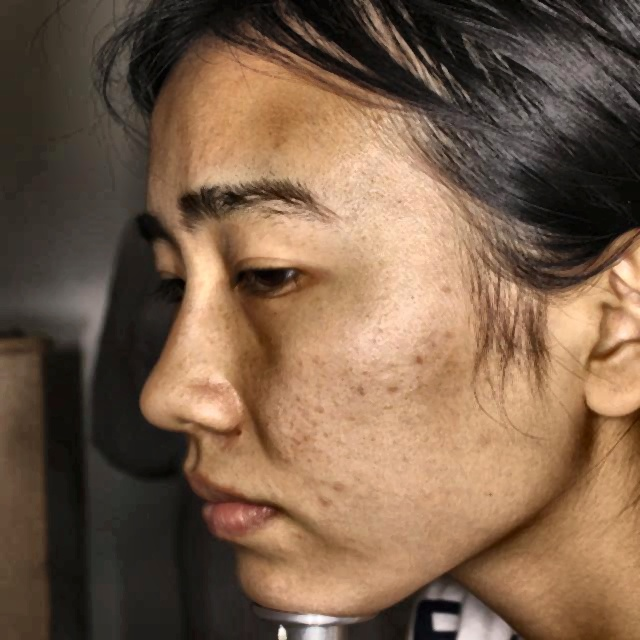comedone: (314, 475, 352, 510)
